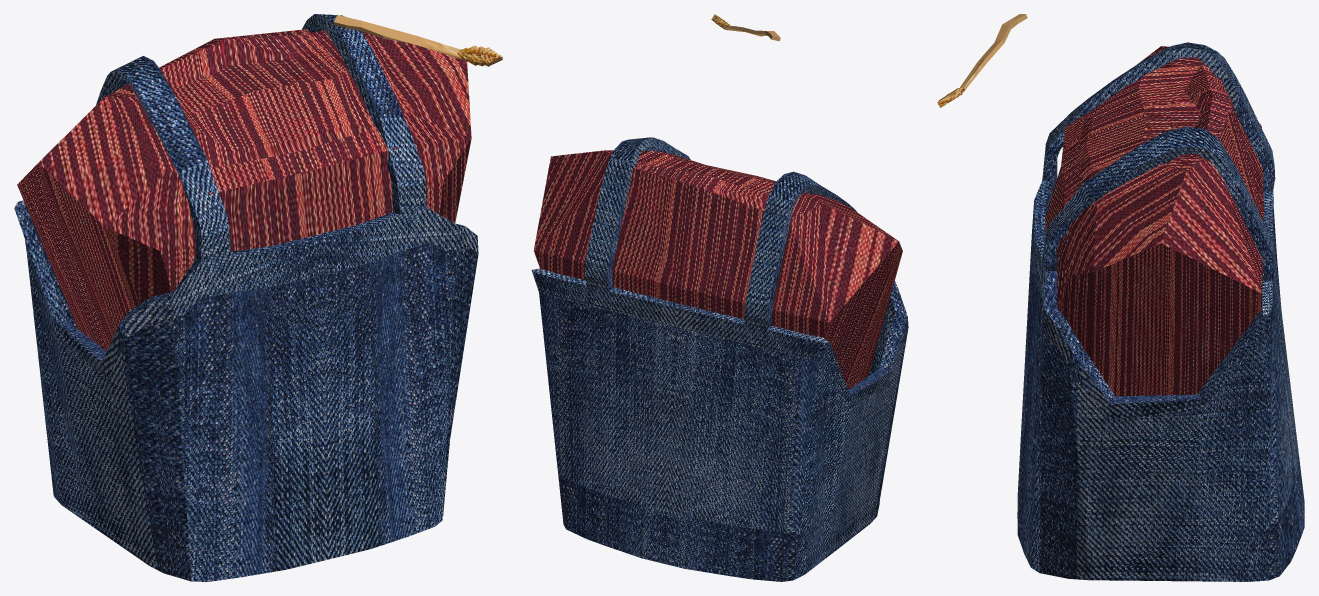
The model's file is Farmer.fbx.
The picture shows the model from 3 angles, left to right: view 1: azimuth 30°, elevation 25°; view 2: azimuth 150°, elevation 25°; view 3: azimuth 270°, elevation 25°; orthographic projection. The views are drawn at different scales.
Parts seen in each view (by area): view 1: Trousers.001, UnderShirt.001, Wheat.001; view 2: Trousers.001, UnderShirt.001; view 3: Trousers.001, UnderShirt.001, Wheat.001.
Boxes of the visible parts, <box> form: Trousers.001: <box>14,14,478,581</box>; UnderShirt.001: <box>17,29,471,351</box>; Wheat.001: <box>334,15,502,66</box>; Trousers.001: <box>531,137,908,581</box>; UnderShirt.001: <box>533,150,902,389</box>; Trousers.001: <box>1017,42,1304,581</box>; UnderShirt.001: <box>1044,46,1263,396</box>; Wheat.001: <box>937,14,1027,107</box>.
Bounding box in the file's own units: 210 × 252 × 165.
